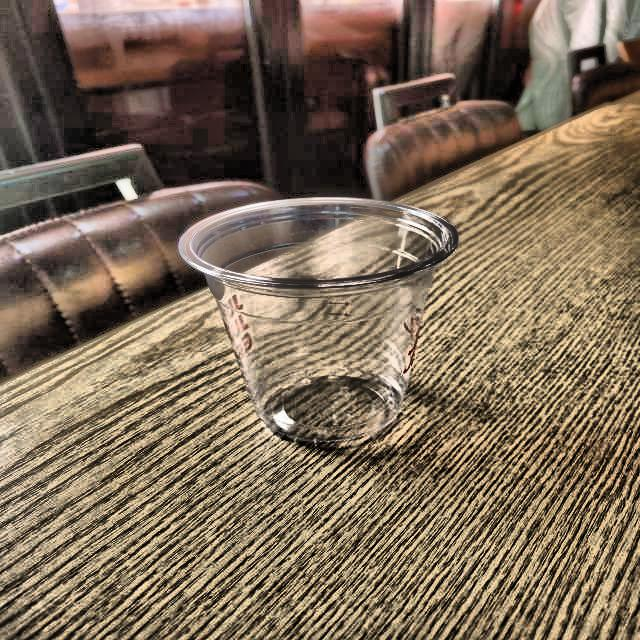plastic cup: (165, 188, 480, 452)
